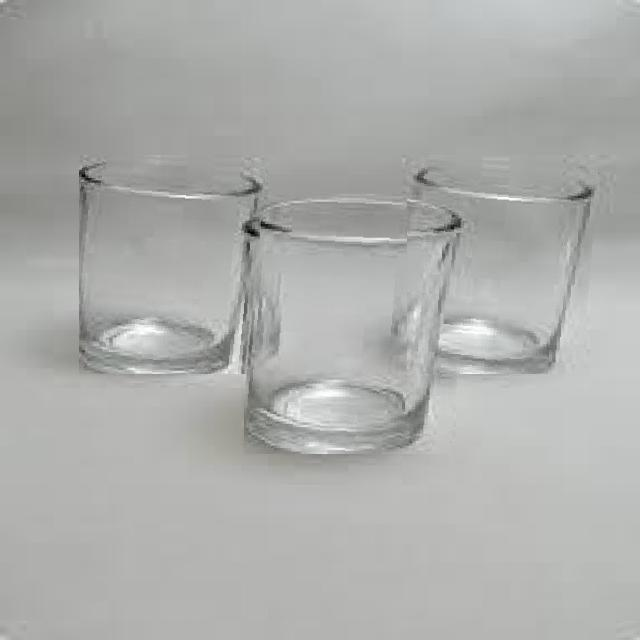Glass: (245, 190, 472, 454), (407, 154, 598, 374), (79, 152, 267, 374)
